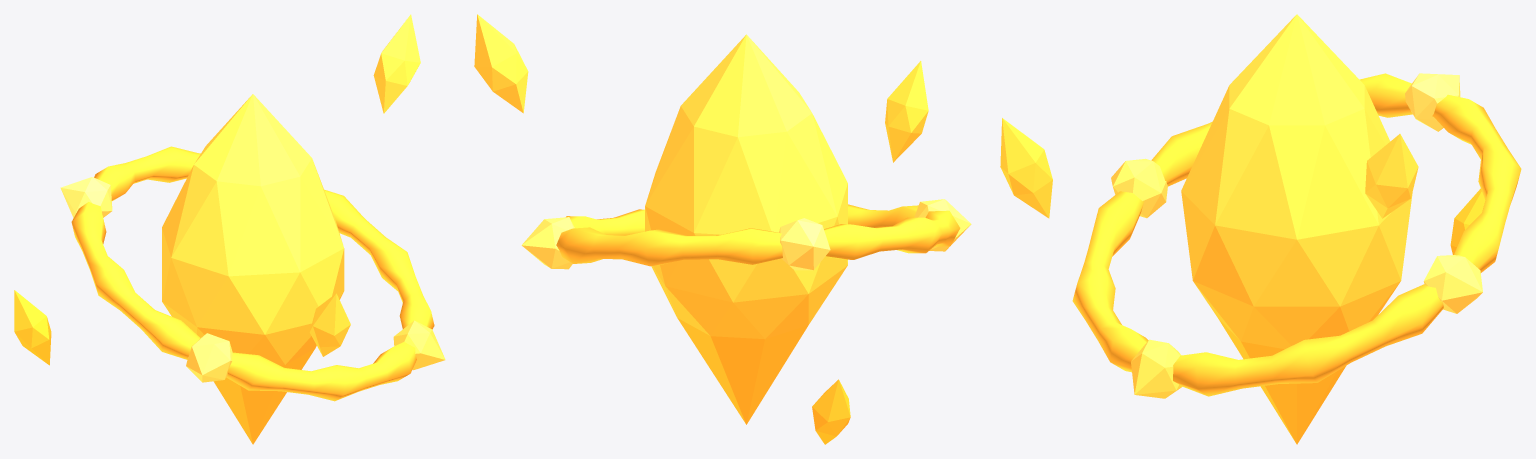
Rendered from golden_crystal.glb.
The picture shows the model from 3 angles, left to right: view 1: azimuth 30°, elevation 25°; view 2: azimuth 150°, elevation 25°; view 3: azimuth 270°, elevation 25°; orthographic projection. The views are drawn at different scales.
Parts seen in each view (by area): view 1: golden_crystal; view 2: golden_crystal; view 3: golden_crystal.
Part boxes in pixels (box(x1,y1,x2,y2)): golden_crystal: box(14, 14, 445, 444); golden_crystal: box(474, 14, 971, 444); golden_crystal: box(1000, 14, 1521, 444).
Bounding box in the file's own units: 0.9534 × 0.8741 × 0.9572.
